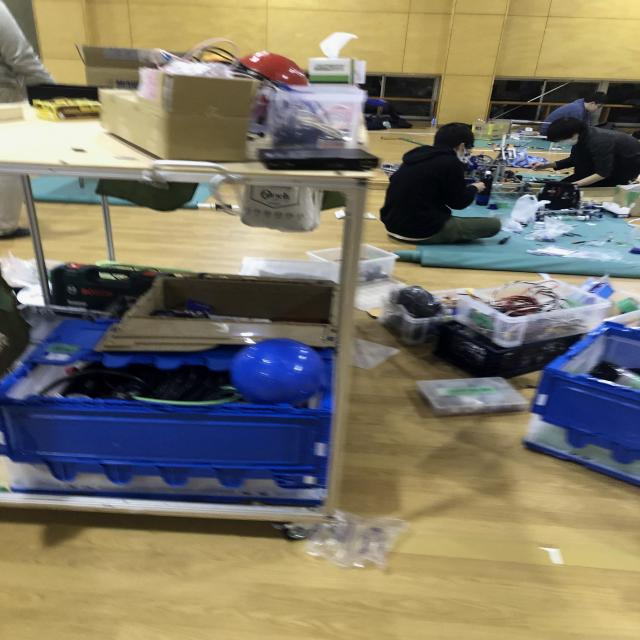blue_ball: (230, 337, 332, 405)
